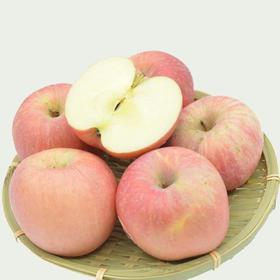apple: (113, 146, 231, 261), (5, 149, 118, 260), (170, 94, 263, 191), (10, 82, 85, 160), (127, 50, 195, 105)
